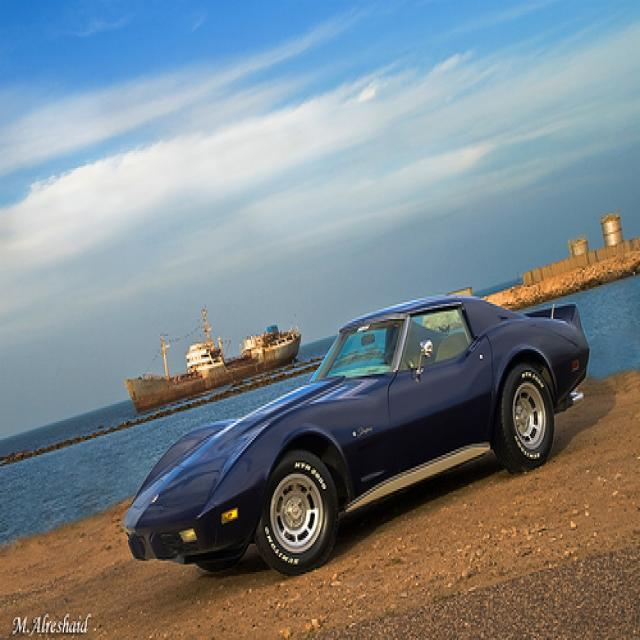Car: (123, 289, 594, 583)
